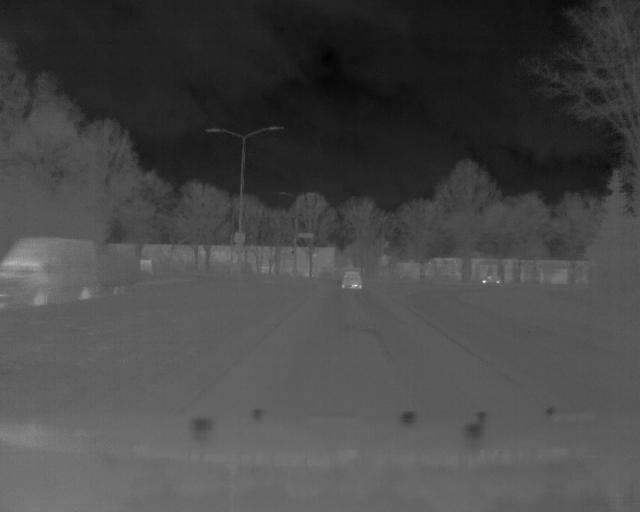car: (1, 235, 101, 308), (338, 268, 365, 291)
